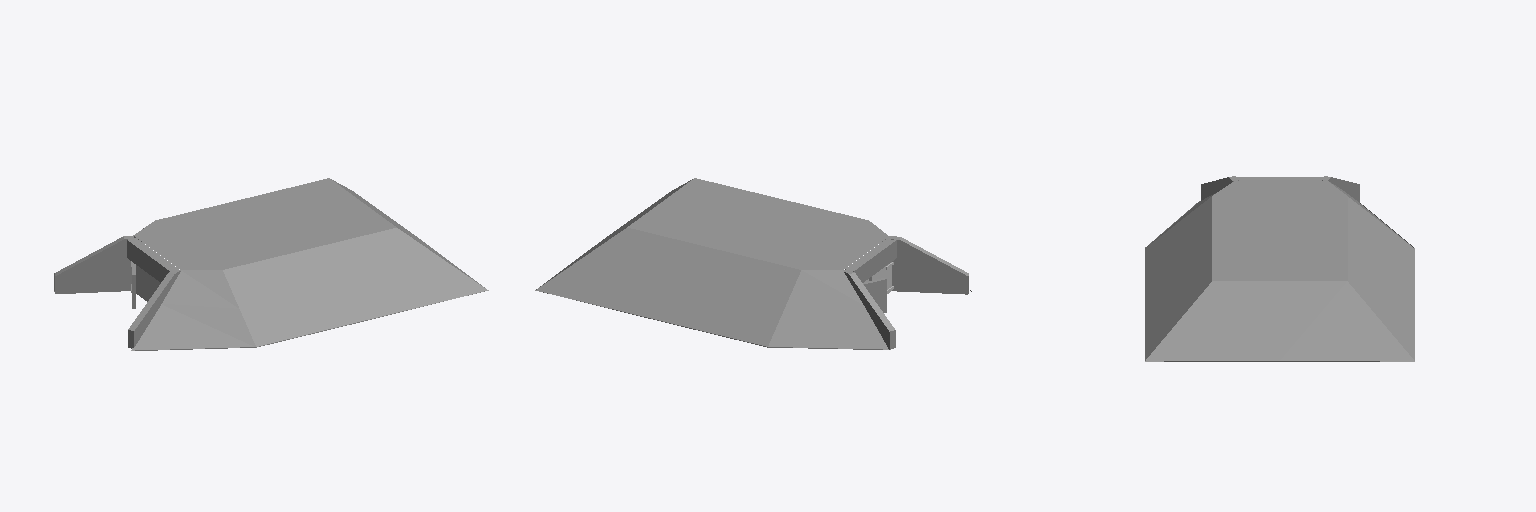
File: bldg_warehouse.obj
3 views of the same model, side by side, from view 1: azimuth 30°, elevation 25°; view 2: azimuth 150°, elevation 25°; view 3: azimuth 270°, elevation 25° (orthographic).
Visible parts, largest first — view 1: Cube.005_Cube.011, Cube.001_Cube.007, Cube, Cube.002_Cube.008; view 2: Cube.005_Cube.011, Cube, Cube.002_Cube.008, Cube.001_Cube.007; view 3: Cube.005_Cube.011.
Boxes of the visible parts, x1=… form: Cube.005_Cube.011: x1=54, y1=178, x2=488, y2=350; Cube.001_Cube.007: x1=54, y1=236, x2=134, y2=293; Cube: x1=128, y1=269, x2=180, y2=348; Cube.002_Cube.008: x1=127, y1=238, x2=178, y2=282; Cube.005_Cube.011: x1=535, y1=178, x2=971, y2=349; Cube: x1=889, y1=236, x2=968, y2=294; Cube.002_Cube.008: x1=845, y1=237, x2=896, y2=282; Cube.001_Cube.007: x1=843, y1=269, x2=895, y2=349; Cube.005_Cube.011: x1=1145, y1=181, x2=1414, y2=361.
Bounding box in the file's own units: 12.94 × 2.03 × 9.18.